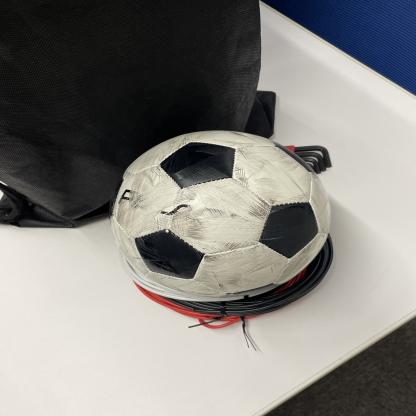ball: (112, 130, 331, 301)
